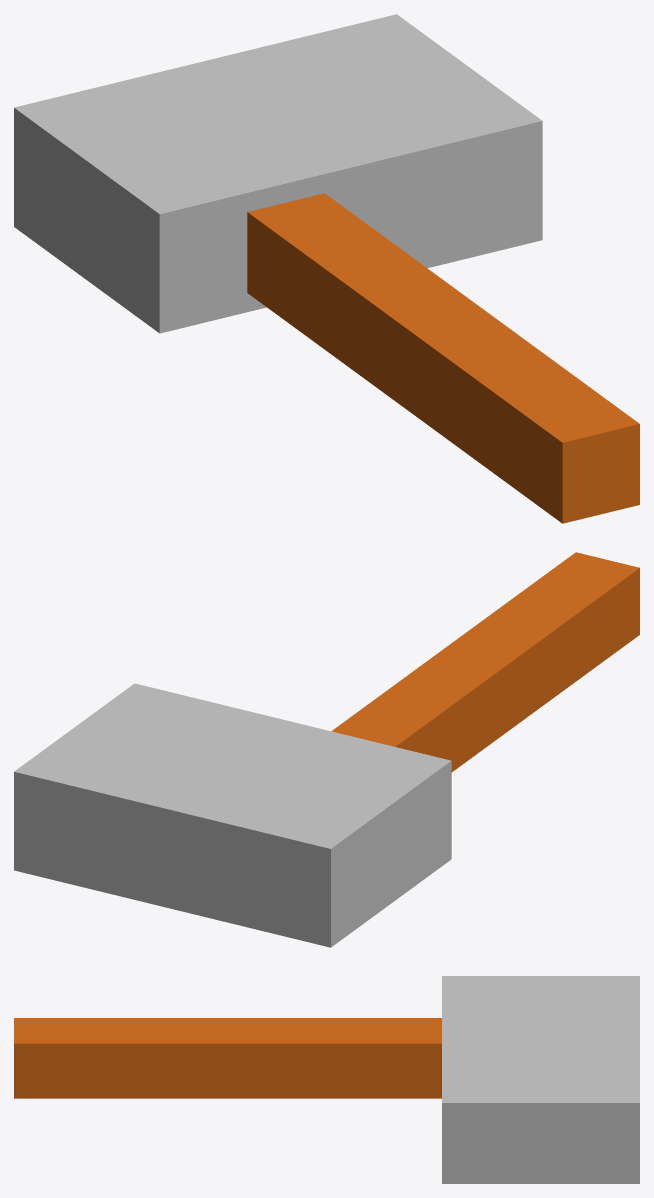
Rendered from fuzi.fbx.
The picture shows the model from 3 angles, top to bottom: view 1: azimuth 30°, elevation 25°; view 2: azimuth 150°, elevation 25°; view 3: azimuth 270°, elevation 25°; orthographic projection. The views are drawn at different scales.
Parts seen in each view (by area): view 1: Cube.004; view 2: Cube.004; view 3: Cube.004.
Boxes of the visible parts, x1,y1,x2,y2 form: Cube.004: (14, 14, 639, 523); Cube.004: (14, 552, 639, 947); Cube.004: (14, 976, 639, 1183).
Bounding box in the file's own units: 303 × 90.28 × 632.
